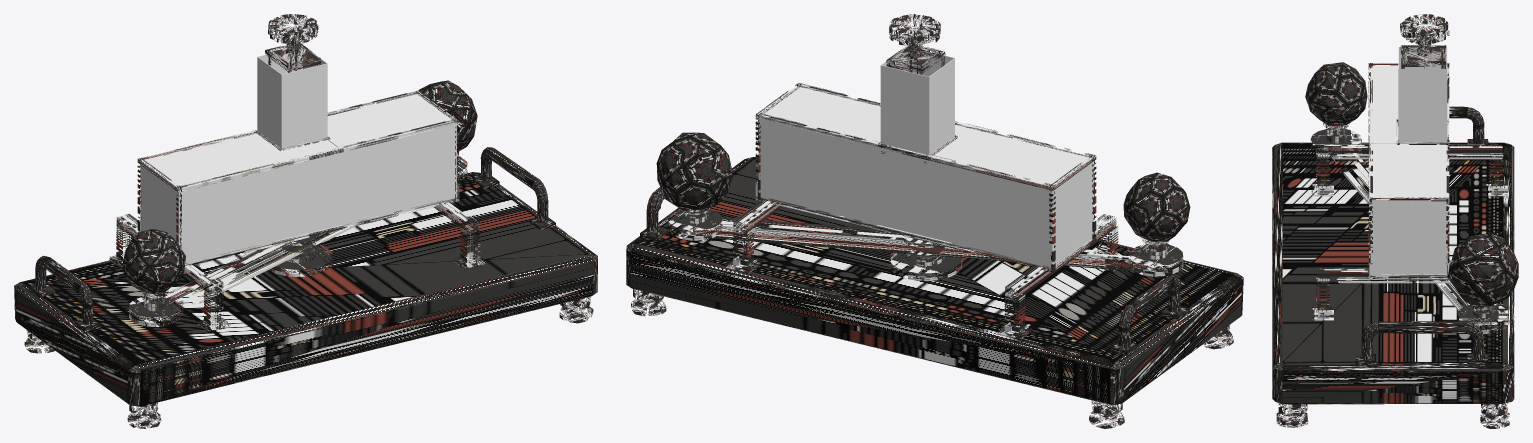
Rendered from 31-cavendish-balance.fbx.
3 views of the same model, side by side, from view 1: azimuth 30°, elevation 25°; view 2: azimuth 150°, elevation 25°; view 3: azimuth 270°, elevation 25° (orthographic). The views are drawn at different scales.
Visible parts, largest first — view 1: Meshy_Source_010, Glass_fixed_longwall, Glass_top_side, Glass_top_side.001, Neck_glass_frontback, Meshy_Source_011, Swivel_yoke_single_bar, Glass_fixed_end, Neck_glass_side, Meshy_Source_013, Meshy_Source_006, Fixed_case_long_edge.002 (+15 smaller); view 2: Meshy_Source_010, Glass_fixed_longwall.001, Swivel_yoke_single_bar, Glass_top_side, Meshy_Source_013, Glass_top_side.001, Neck_glass_frontback.001, Meshy_Source_011, Glass_fixed_end, Neck_glass_side, Fixed_case_long_edge.003, Swivel_fixed_bearing_foot (+15 smaller); view 3: Meshy_Source_010, Glass_fixed_end.001, Glass_top_side.001, Meshy_Source_013, Neck_glass_side.001, Meshy_Source_011, Meshy_Source_006, Fixed_case_bridge_top_-1, Glass_top_side, Swivel_yoke_single_bar, Meshy_Source_008, Fixed_case_bridge_top_1 (+21 smaller).
Boxes of the visible parts, x1,y1,x2,y2 form: Meshy_Source_010: (14, 172, 597, 406); Glass_fixed_longwall: (179, 122, 456, 264); Glass_top_side: (141, 132, 295, 188); Glass_top_side.001: (327, 93, 453, 149); Neck_glass_frontback: (282, 63, 327, 150); Meshy_Source_011: (123, 229, 185, 294); Swivel_yoke_single_bar: (152, 222, 363, 321); Glass_fixed_end: (140, 161, 179, 244); Neck_glass_side: (257, 57, 281, 150); Meshy_Source_013: (419, 80, 477, 151); Meshy_Source_006: (480, 147, 548, 222); Fixed_case_long_edge.002: (176, 119, 458, 192); Meshy_Source_010: (626, 157, 1243, 404); Glass_fixed_longwall.001: (758, 116, 1052, 268); Swivel_yoke_single_bar: (693, 216, 1156, 272); Glass_top_side: (929, 128, 1091, 187); Meshy_Source_013: (656, 132, 733, 210); Glass_top_side.001: (759, 86, 880, 145); Neck_glass_frontback.001: (880, 65, 928, 156); Meshy_Source_011: (1123, 172, 1190, 241); Glass_fixed_end: (1052, 158, 1093, 266); Neck_glass_side: (929, 58, 954, 155); Fixed_case_long_edge.003: (755, 113, 1054, 190); Swivel_fixed_bearing_foot: (889, 243, 962, 280); Meshy_Source_010: (1272, 142, 1514, 404); Glass_fixed_end.001: (1371, 200, 1447, 276); Glass_top_side.001: (1371, 144, 1447, 199); Meshy_Source_013: (1447, 232, 1518, 307); Neck_glass_side.001: (1398, 69, 1446, 143); Meshy_Source_011: (1305, 62, 1367, 125); Meshy_Source_006: (1361, 321, 1484, 360); Fixed_case_bridge_top_-1: (1317, 144, 1502, 159); Glass_top_side: (1371, 65, 1398, 121); Swivel_yoke_single_bar: (1325, 142, 1494, 325); Meshy_Source_008: (1400, 14, 1449, 44); Fixed_case_bridge_top_1: (1317, 268, 1451, 283).
Size of the model in its own units: 1.8 by 1.08 by 0.8229.
Materials: 9 (8 with a texture image).
